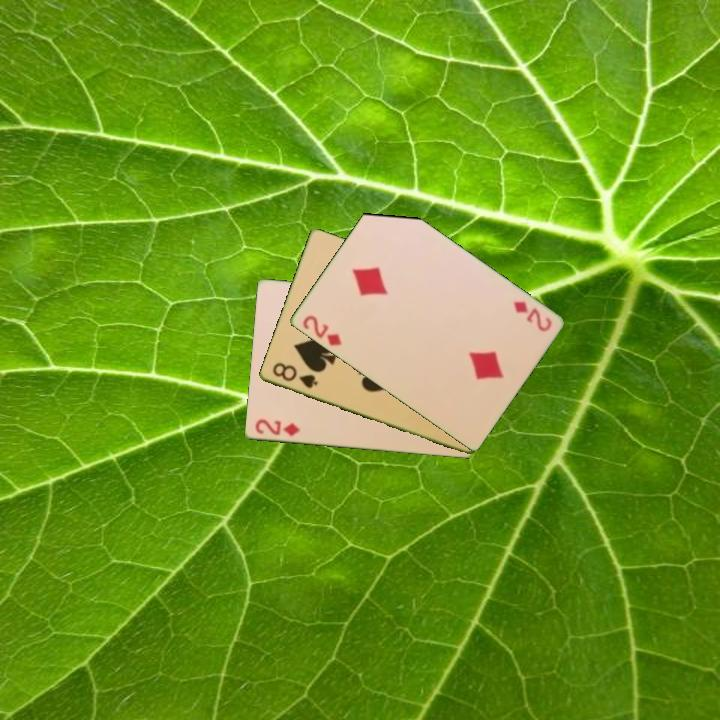2d: (298, 312, 344, 349), (509, 298, 554, 335), (251, 416, 302, 439)
8s: (269, 359, 320, 391)
